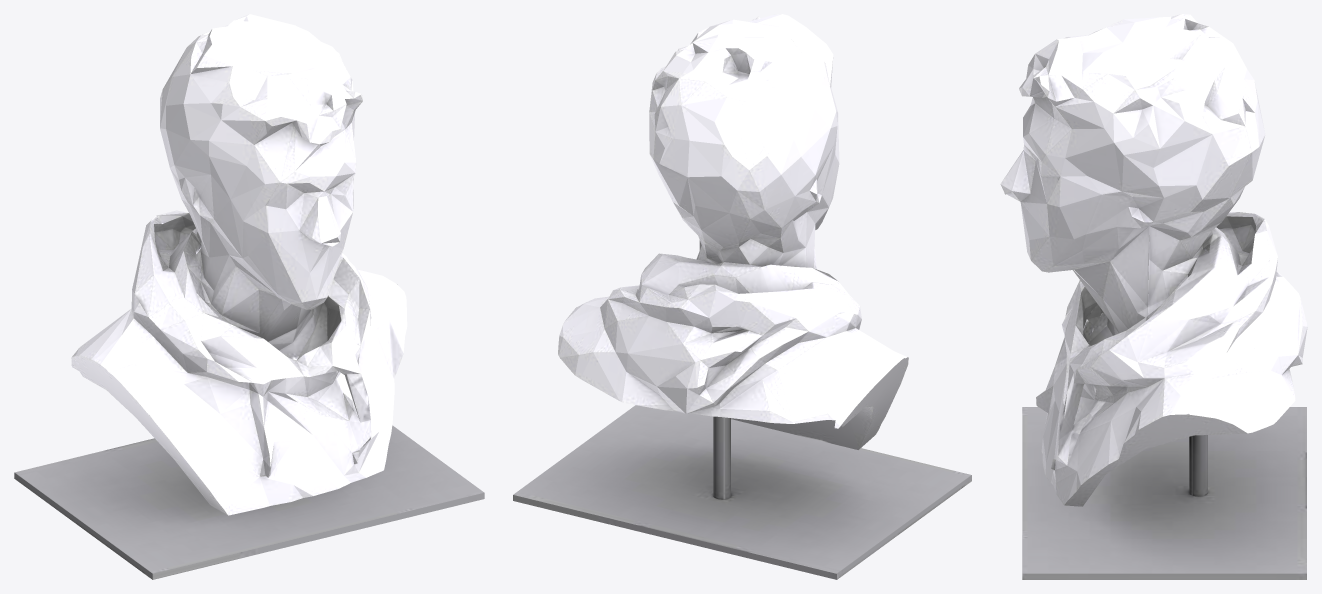
3 renders of one model, left to right at view 1: azimuth 30°, elevation 25°; view 2: azimuth 150°, elevation 25°; view 3: azimuth 270°, elevation 25°, orthographic. The views are drawn at different scales.
Parts seen in each view (by area): view 1: object 1, Support006; view 2: object 1, Support006; view 3: object 1, Support006.
Boxes of the visible parts, bbox=[...] form: object 1: bbox=[71, 14, 407, 515]; Support006: bbox=[14, 425, 484, 579]; object 1: bbox=[558, 14, 908, 449]; Support006: bbox=[513, 405, 971, 579]; object 1: bbox=[1000, 14, 1307, 506]; Support006: bbox=[1022, 407, 1306, 579].
Size of the model in its own units: 15.39 by 20.49 by 12.
Materials: 2 (2 with a texture image).
